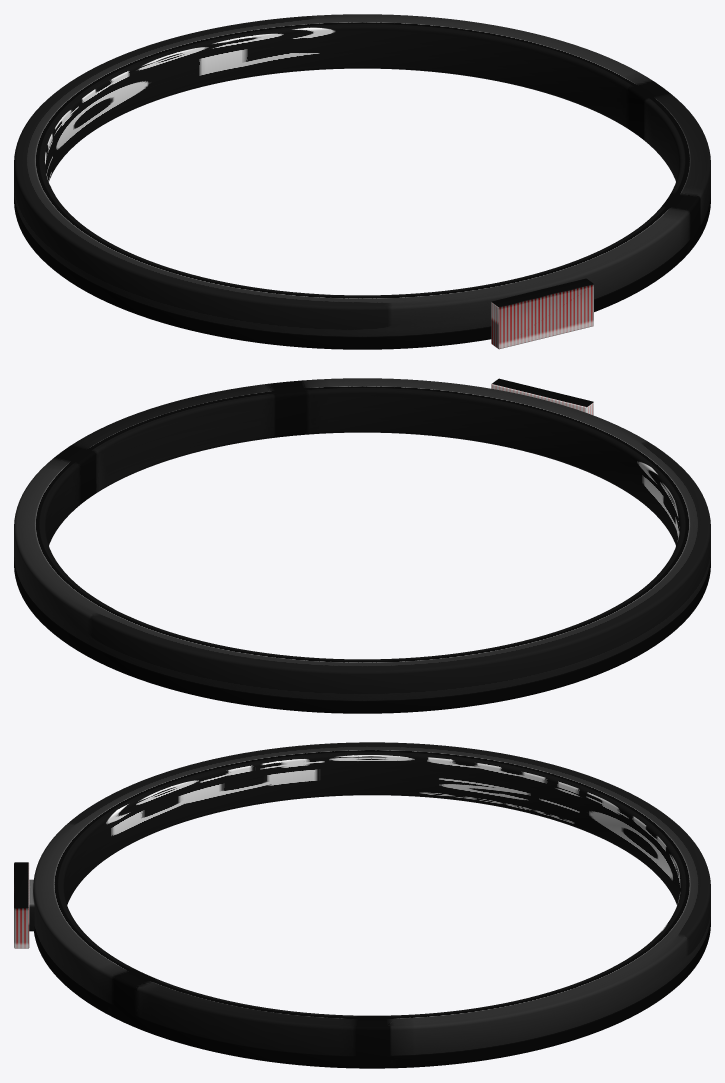
Rendered from 10-scalering-1cm.dae.
The picture shows the model from 3 angles, top to bottom: view 1: azimuth 30°, elevation 25°; view 2: azimuth 150°, elevation 25°; view 3: azimuth 270°, elevation 25°; orthographic projection. The views are drawn at different scales.
Visible parts, largest first — view 1: scalering.1, screen.1; view 2: scalering.1, screen.1; view 3: scalering.1, screen.1.
Boxes of the visible parts, box(x1,y1,x2,y2) form: scalering.1: box(14, 14, 710, 349); screen.1: box(491, 278, 593, 349); scalering.1: box(14, 378, 710, 713); screen.1: box(491, 378, 593, 415); scalering.1: box(33, 742, 710, 1068); screen.1: box(14, 862, 29, 948).
Bounding box in the file's own units: 11 × 0.75 × 11.31.
3 materials, 3 textured.
